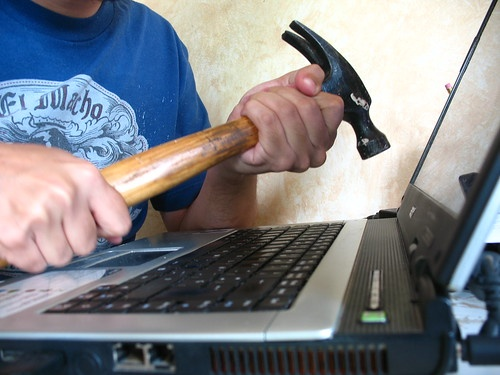hammer: (101, 19, 390, 217)
